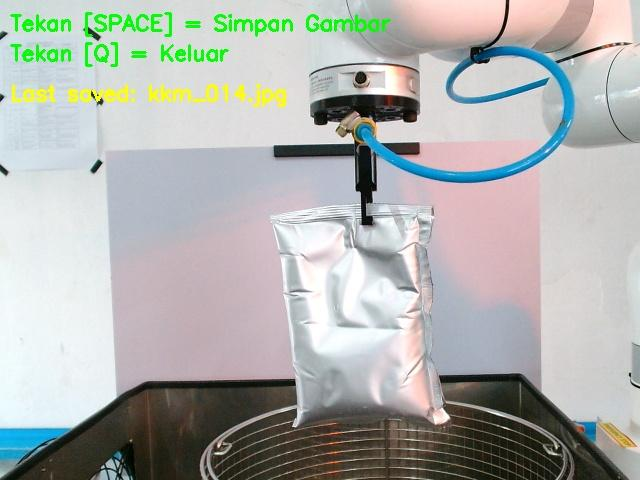retort-pouch: (268, 201, 450, 427)
